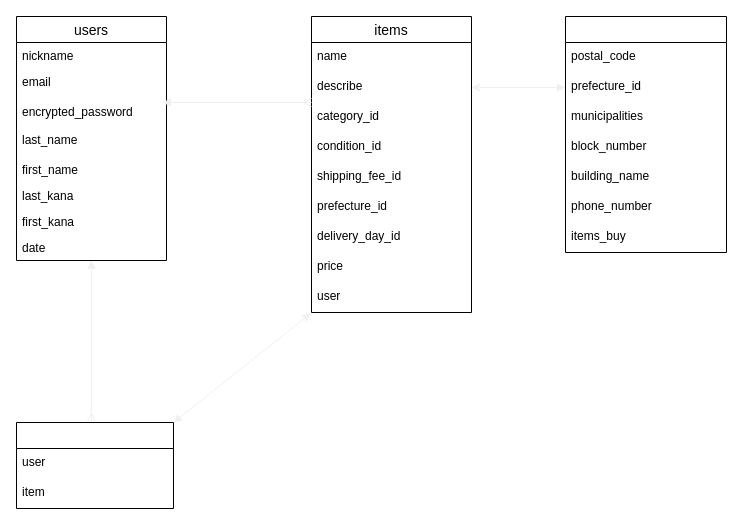
The diagram is 743 pixels wide and 525 high, and some of its shapes have lost their labels. The shapes that lost their labels are listed below. From the top down, each one's box as (x1, y1, x2, y2) in pixels, then its label:
(564, 16, 726, 252): address
(16, 422, 174, 508): Items_buys
